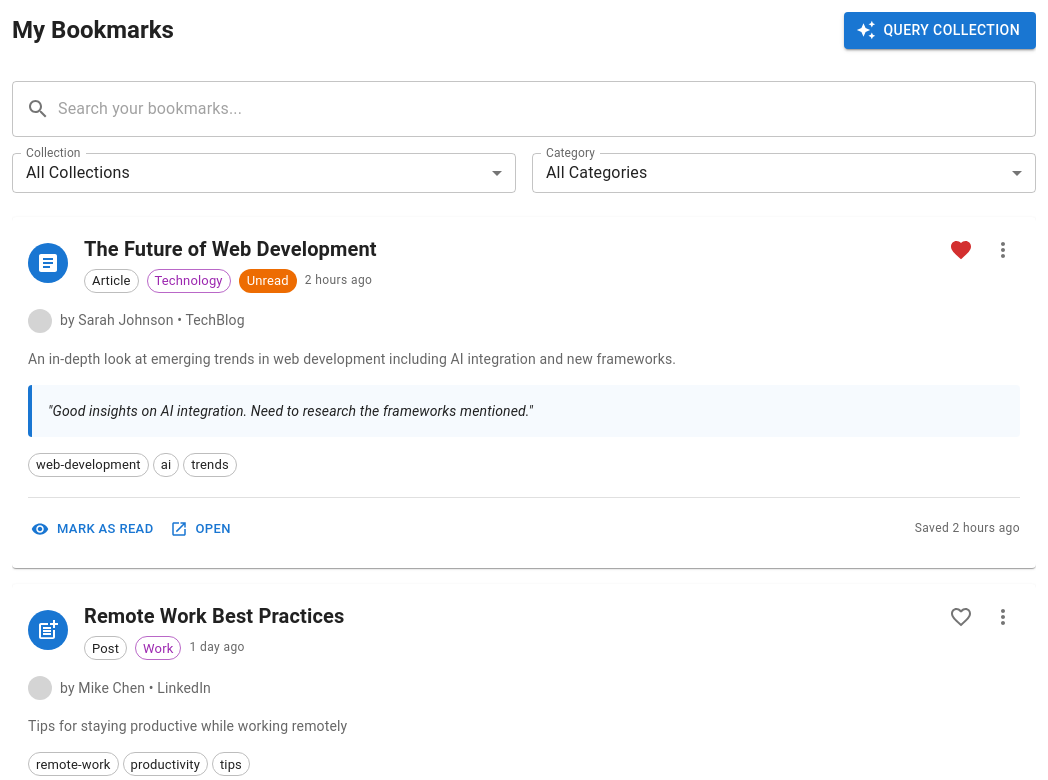
Test: MyCollectionPage › filters by collection
Check: the heading "The Future of Web Development" is shown, box [84,232,377,264]
Press the mouse on the dropdown labelled "All Collections" at (78, 172), box [26,163,130,182]
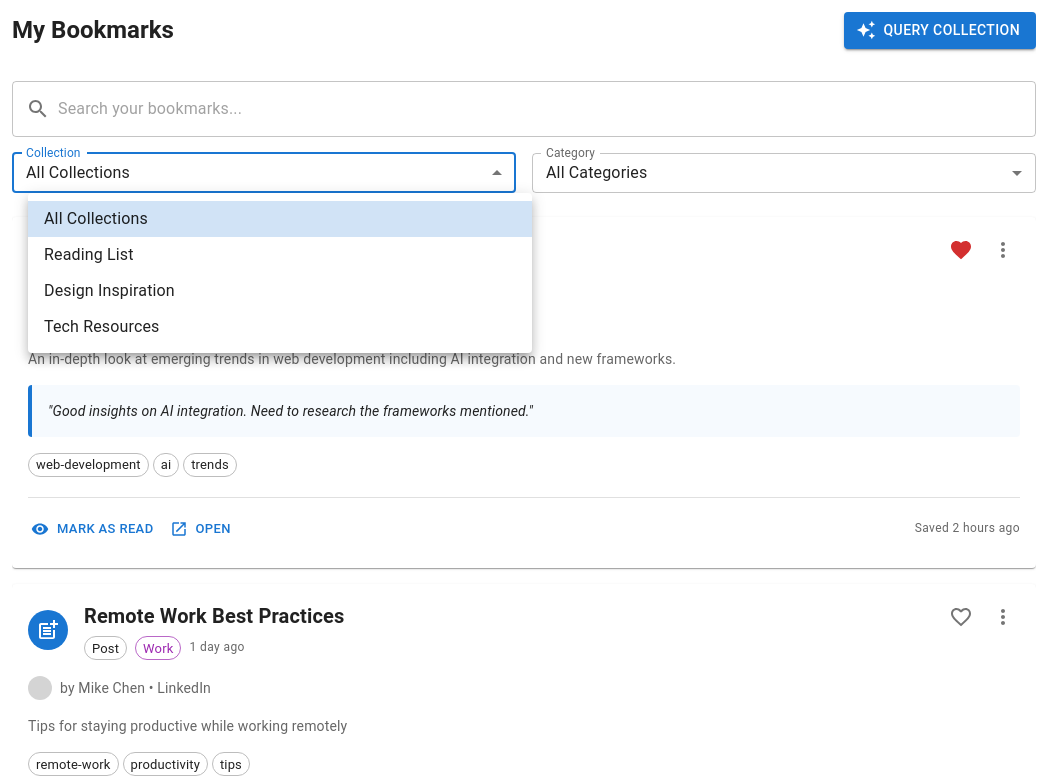
Check: the option "Reading List" is shown
Click the option "Reading List" at (89, 254), box [44,245,134,264]
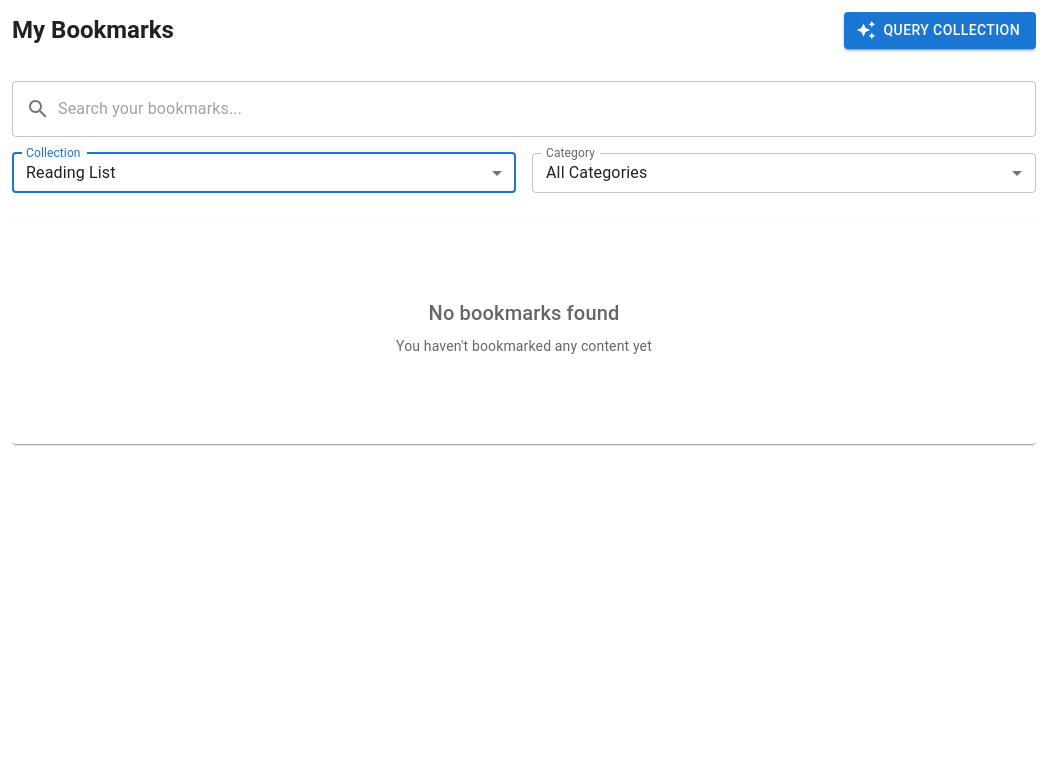
Check: the heading "No bookmarks found" is shown, box [429,300,619,324]
